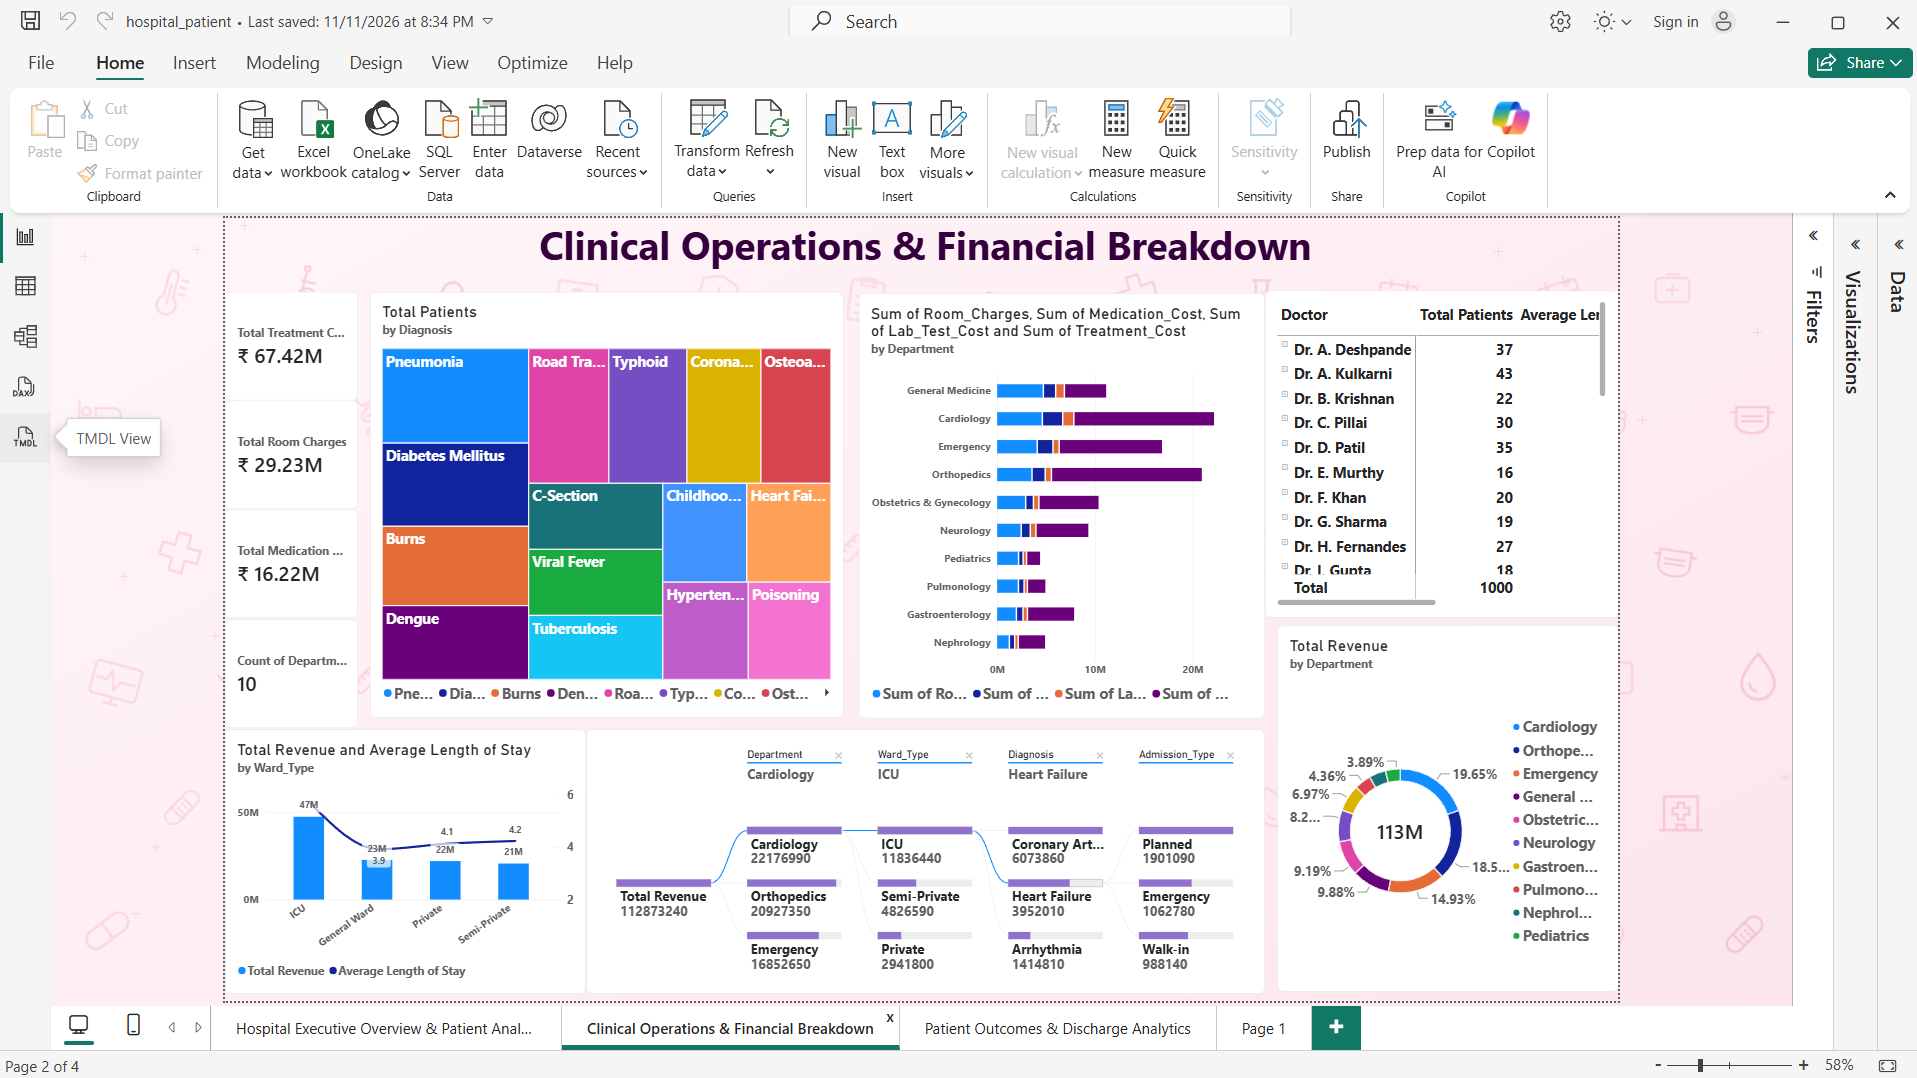

What the dashboard file says about the page in this screenshot:
{"tool":"powerbi","page":{"name":"Clinical Operations & Financial Breakdown","canvas":[1920,1080],"ordinal":1},"visuals":[{"type":"textbox","box":[10.3,0,1910.1,115.3],"z":0},{"type":"cardVisual","fields":{"Data":["Patient_Data.Total Treatment Cost"]},"box":[0,100.9,183.2,150.3],"z":1},{"type":"cardVisual","fields":{"Data":["Patient_Data.Total Room Charges"]},"box":[0,251.1,183,150],"z":2},{"type":"cardVisual","fields":{"Data":["Patient_Data.Total Medication & Lab Cost"]},"box":[0,401.4,183,150],"z":3},{"type":"cardVisual","fields":{"Data":["Count(Patient_Data.Department)"]},"box":[0,553.7,183,150],"z":4},{"type":"treemap","fields":{"Group":["Patient_Data.Diagnosis"],"Values":["Patient_Data.Total Patients"]},"box":[200,102.5,652.5,587.5],"z":5},{"type":"donutChart","fields":{"Category":["Patient_Data.Department"],"Y":["Patient_Data.Total Revenue"]},"box":[1450,562.5,470,505],"z":6},{"type":"decompositionTreeVisual","fields":{"Analyze":["Patient_Data.Total Revenue"],"ExplainBy":["Patient_Data.Department","Patient_Data.Ward_Type","Patient_Data.Diagnosis","Patient_Data.Admission_Type"]},"box":[497.5,705,935,365],"z":7},{"type":"barChart","fields":{"Category":["Patient_Data.Department"],"Y":["Sum(Patient_Data.Room_Charges)","Sum(Patient_Data.Medication_Cost)","Sum(Patient_Data.Lab_Test_Cost)","Sum(Patient_Data.Treatment_Cost)"]},"box":[873.3,103.3,560,586.7],"z":8},{"type":"pivotTable","fields":{"Rows":["Patient_Data.Doctor","Patient_Data.Department"],"Values":["Patient_Data.Total Patients","Patient_Data.Average Length of Stay","Patient_Data.Total Revenue"]},"box":[1432.9,100,487.1,451.4],"z":9},{"type":"lineClusteredColumnComboChart","fields":{"Category":["Patient_Data.Ward_Type"],"Y":["Patient_Data.Total Revenue"],"Y2":["Patient_Data.Average Length of Stay"]},"box":[0,705,497.5,365],"z":10}]}

Visuals, with their boxes on the page's 1920x1080 design canvas (x1, y1, x2, y2). These are canvas units, not pixel positions in the 1917x1078 screenshot, which may show the page scaled, cropped or inside an application window:
textbox: 10 0 1920 115
cardVisual - Patient_Data.Total Treatment Cost: 0 101 183 251
cardVisual - Patient_Data.Total Room Charges: 0 251 183 401
cardVisual - Patient_Data.Total Medication & Lab Cost: 0 401 183 551
cardVisual - Count(Patient_Data.Department): 0 554 183 704
treemap - Patient_Data.Diagnosis x Patient_Data.Total Patients: 200 102 852 690
donutChart - Patient_Data.Department x Patient_Data.Total Revenue: 1450 562 1920 1068
decompositionTreeVisual - Patient_Data.Total Revenue x Patient_Data.Department: 498 705 1432 1070
barChart - Patient_Data.Department x Sum(Patient_Data.Room_Charges): 873 103 1433 690
pivotTable - Patient_Data.Doctor x Patient_Data.Department: 1433 100 1920 551
lineClusteredColumnComboChart - Patient_Data.Ward_Type x Patient_Data.Total Revenue: 0 705 498 1070
